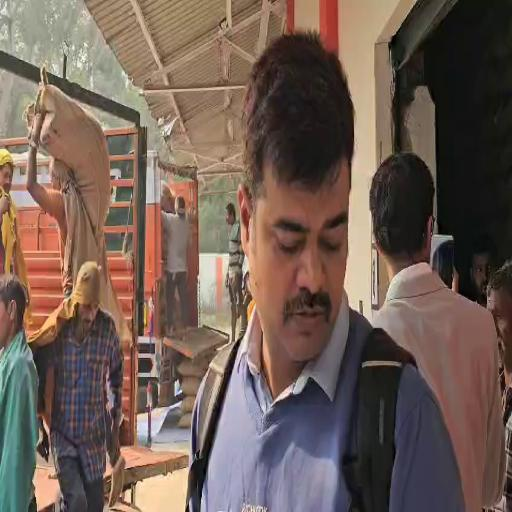bag: (26, 65, 113, 239)
